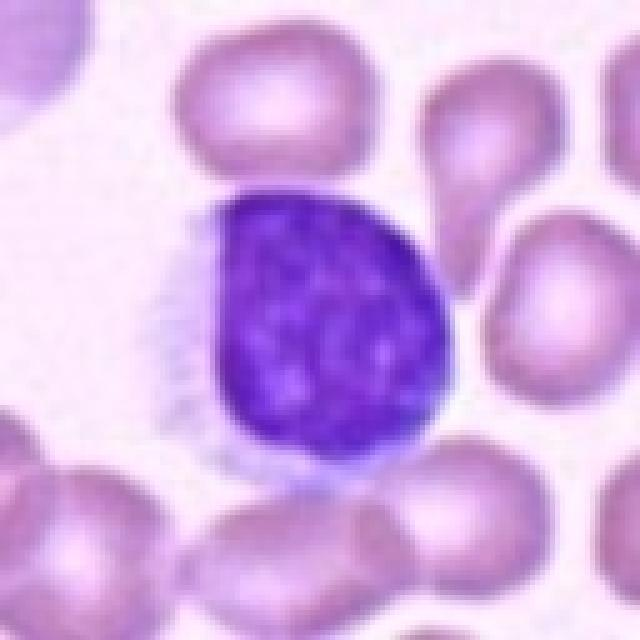lympho: (139, 183, 462, 498)
